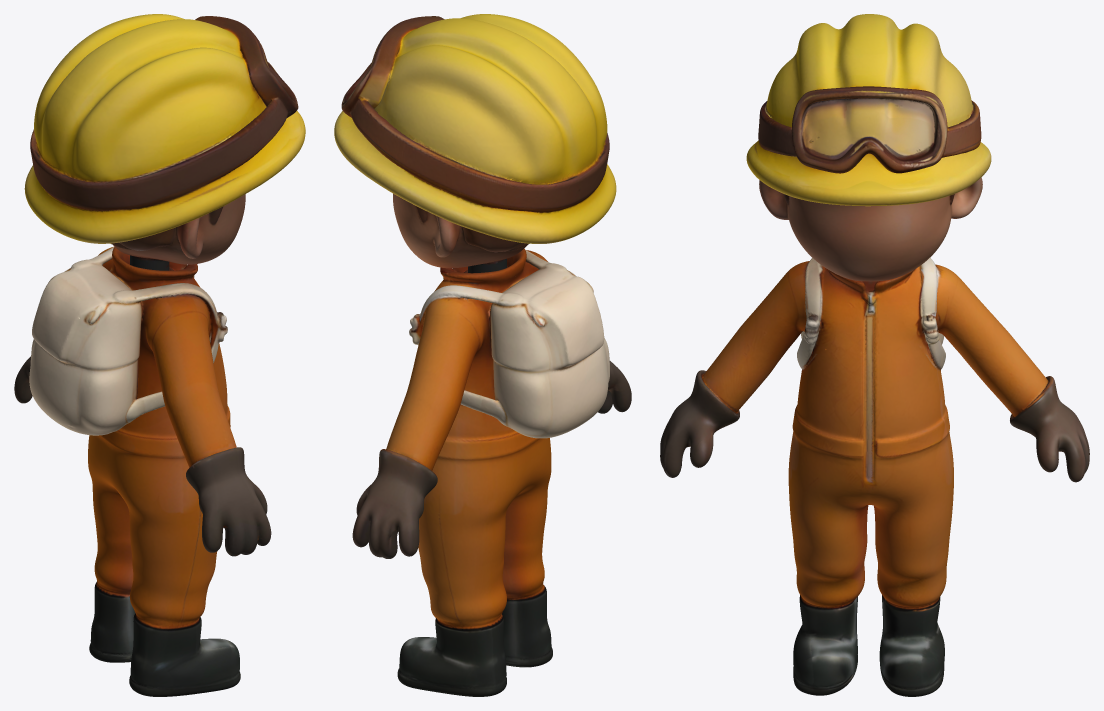
File: tripo_convert_94cef592-d5e6-4bb6-ad11-d847d12a8c40.fbx
3 renders of one model, left to right at view 1: azimuth 30°, elevation 25°; view 2: azimuth 150°, elevation 25°; view 3: azimuth 270°, elevation 25°, orthographic.
Visible parts, largest first — view 1: tripo_node_94cef592; view 2: tripo_node_94cef592; view 3: tripo_node_94cef592.
Boxes of the visible parts, x1,y1,x2,y2 form: tripo_node_94cef592: (14, 14, 305, 696); tripo_node_94cef592: (334, 14, 631, 696); tripo_node_94cef592: (660, 14, 1089, 696).
Bounding box in the file's own units: 0.3961 × 1 × 0.6048.
Materials: 1 (1 with a texture image).
